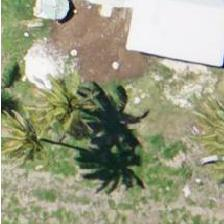coconut_tree: (0, 82, 84, 172)
